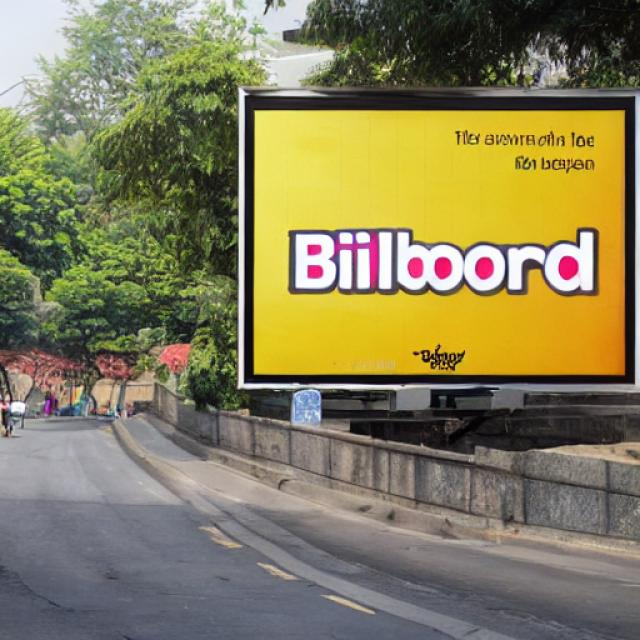Billboard: (234, 91, 640, 389)
